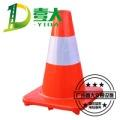cone_barrel: (36, 7, 85, 107)
